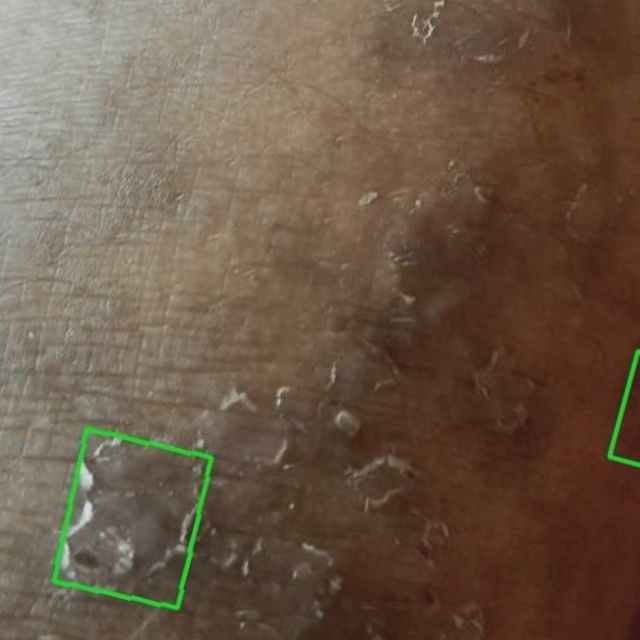Tinea Corporis: (52, 428, 211, 608)
